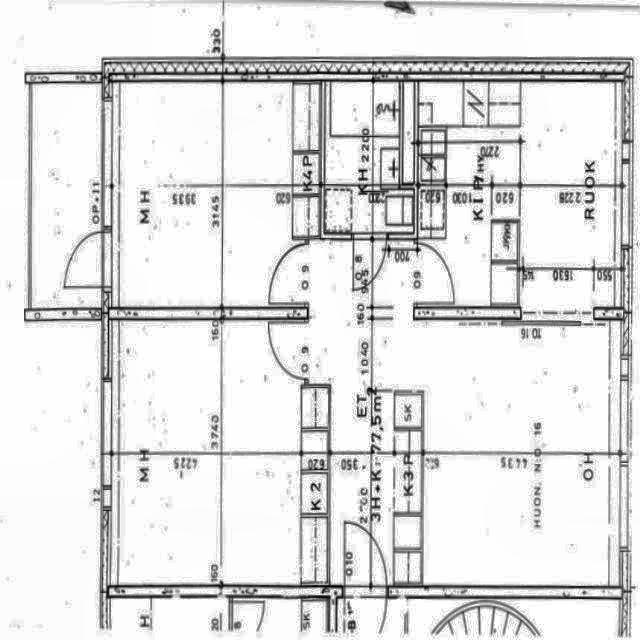room: (111, 320, 305, 586), (111, 82, 321, 309), (418, 81, 622, 307), (325, 80, 414, 233)
